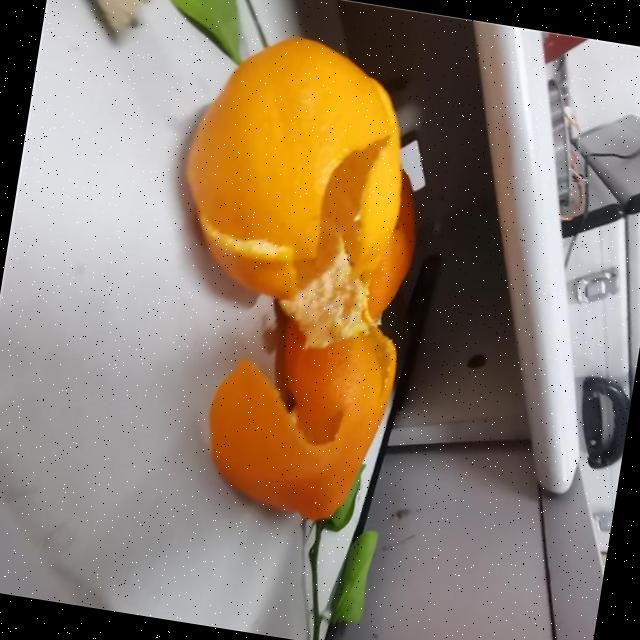orange-peel: (132, 21, 448, 530), (166, 21, 424, 315), (194, 296, 403, 530)
